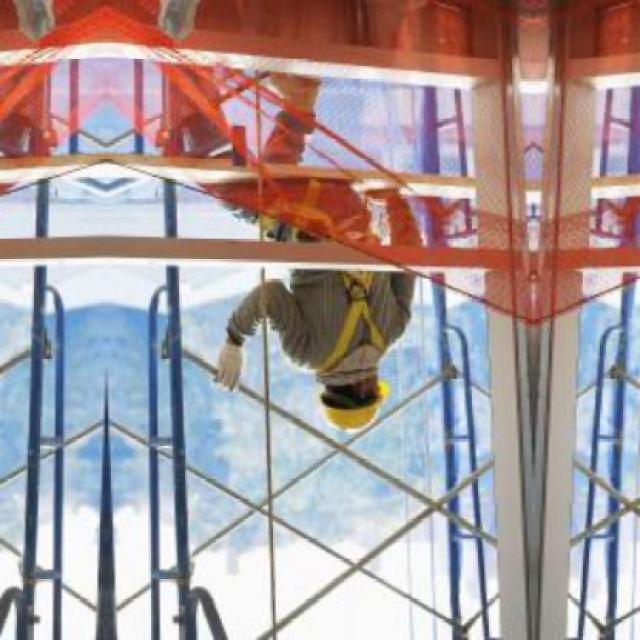con casco: (266, 296, 433, 445)
